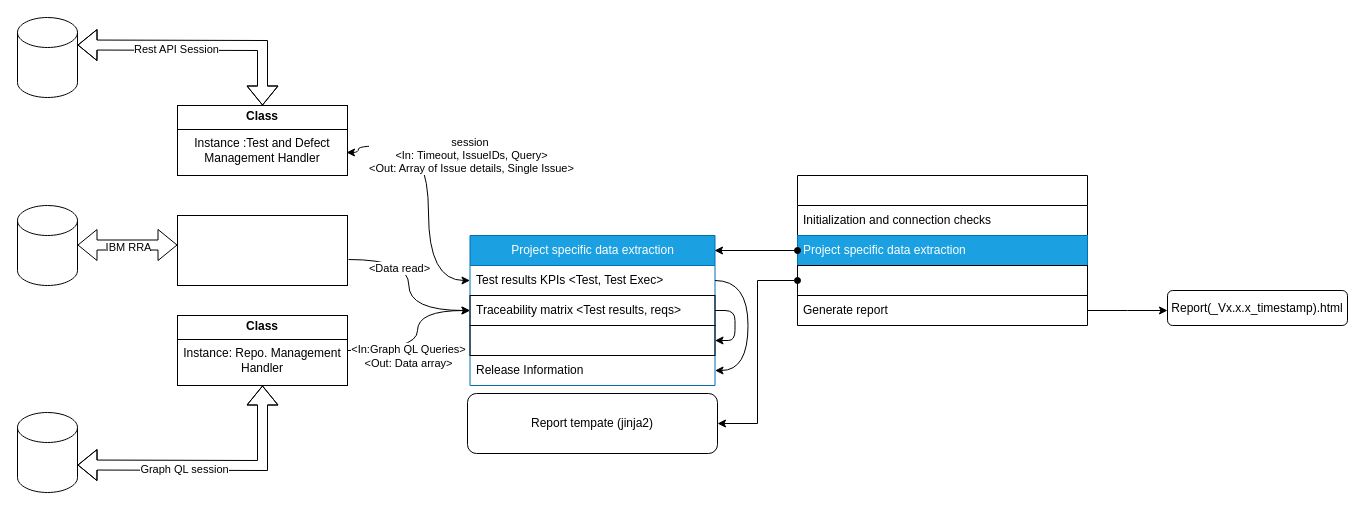
This 1365x510 diagram has some shape labels left out. Each missing label, with the box of its shape:
Class Instance: Req. Management Handler: (176, 214, 348, 286)
Defect Information <Test Results, Defects>: (469, 324, 715, 356)
Evaluate report template: (796, 264, 1088, 296)
Report_generator: (796, 174, 1088, 326)
